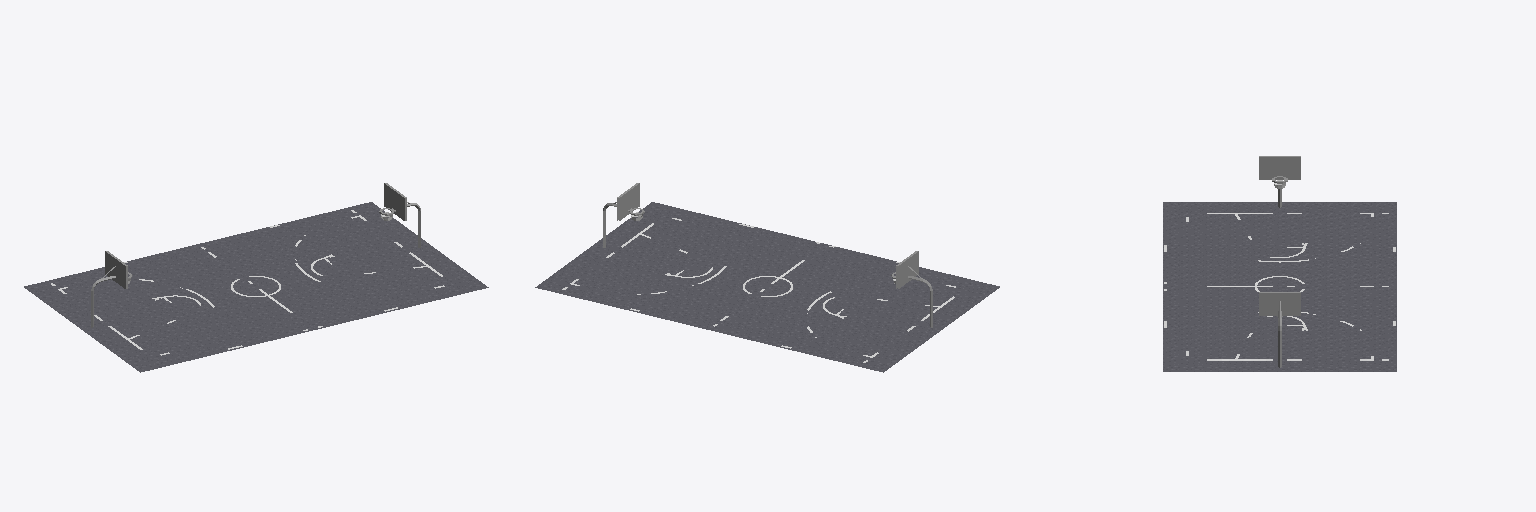
3 views of the same model, side by side, from view 1: azimuth 30°, elevation 25°; view 2: azimuth 150°, elevation 25°; view 3: azimuth 270°, elevation 25° (orthographic).
Visible parts, largest first — view 1: Concrete_Plane, Hoops_polygon3, Lines_polygon1; view 2: Concrete_Plane, Hoops_polygon3, Lines_polygon1; view 3: Concrete_Plane, Hoops_polygon3, Lines_polygon1.
Boxes of the visible parts, <box> form: Concrete_Plane: <box>24,202,488,372</box>; Hoops_polygon3: <box>91,183,420,327</box>; Lines_polygon1: <box>51,210,444,355</box>; Concrete_Plane: <box>535,202,999,372</box>; Hoops_polygon3: <box>603,183,932,327</box>; Lines_polygon1: <box>562,218,955,362</box>; Concrete_Plane: <box>1163,202,1396,371</box>; Hoops_polygon3: <box>1259,156,1300,367</box>; Lines_polygon1: <box>1164,213,1395,360</box>.
Size of the model in its own units: 12 by 2.08 by 7.
Materials: 4 (3 with a texture image).